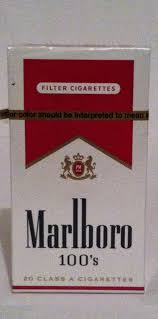marlboro: (10, 46, 144, 292)
